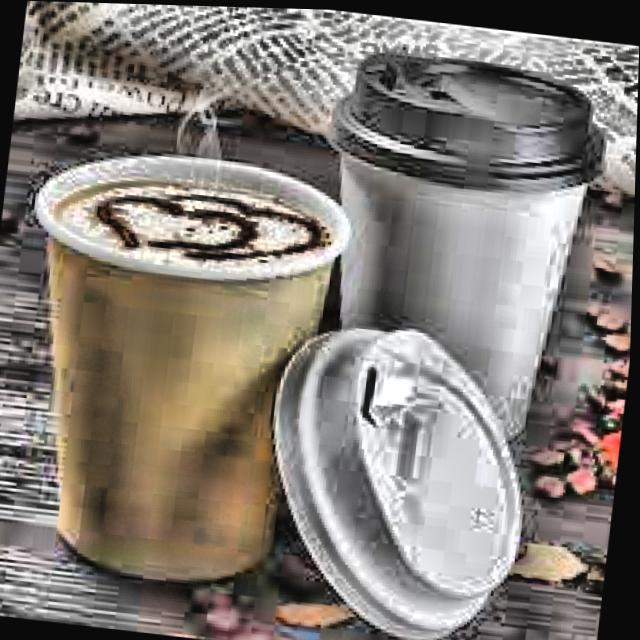Cup: (4, 124, 359, 606), (294, 99, 596, 457)
